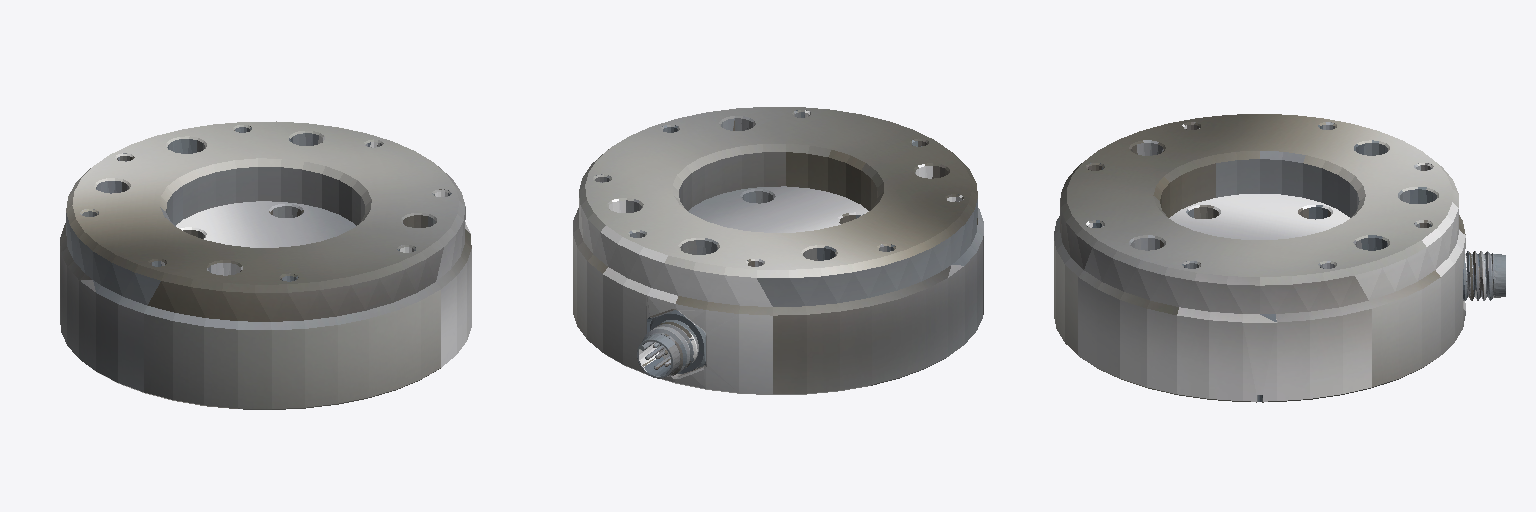
3 renders of one model, left to right at view 1: azimuth 30°, elevation 25°; view 2: azimuth 150°, elevation 25°; view 3: azimuth 270°, elevation 25°, orthographic.
Parts seen in each view (by area): view 1: Link6; view 2: Link6; view 3: Link6.
Part boxes in pixels (x1,y1,x2,y2): Link6: (60, 121, 471, 409); Link6: (573, 107, 983, 394); Link6: (1054, 114, 1505, 402).
Size of the model in its own units: 0.0649 by 0.021 by 0.0714.
1 materials, 1 textured.